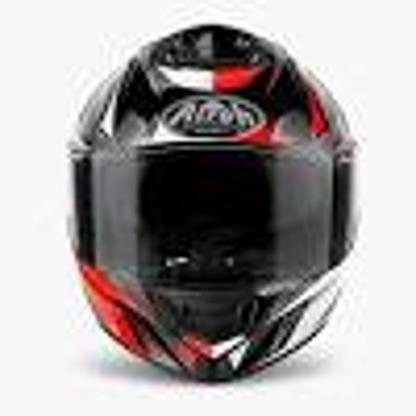not trash: (68, 21, 360, 391)
